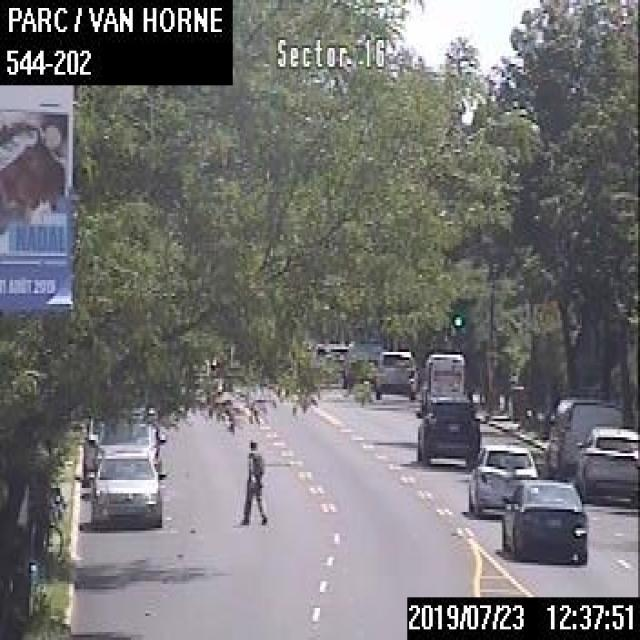pedestrian: (240, 438, 267, 526)
vehicle: (499, 478, 586, 563), (86, 447, 168, 531), (543, 395, 624, 475), (572, 424, 638, 506), (466, 442, 537, 514), (414, 394, 481, 467), (87, 416, 165, 471), (419, 350, 469, 409), (372, 344, 418, 398), (309, 338, 348, 381)
